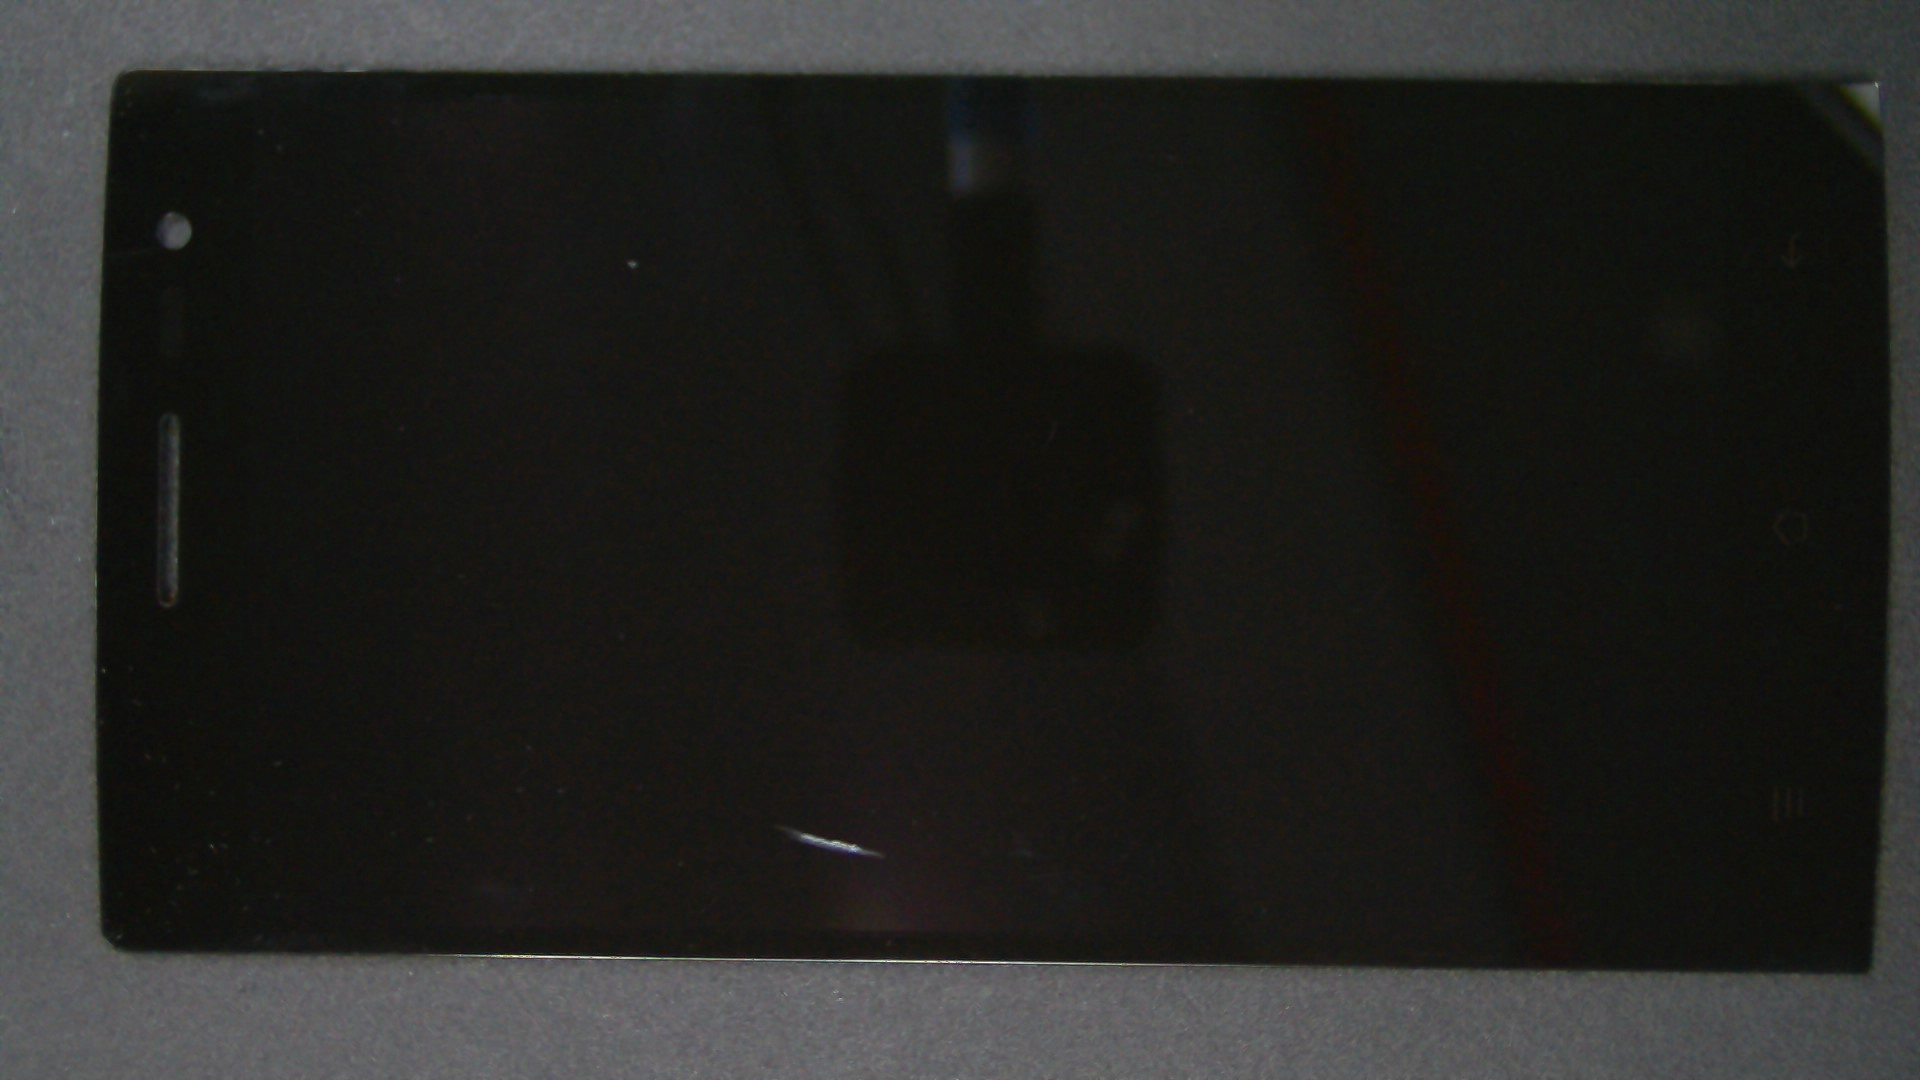oil: (388, 411, 1166, 1080)
